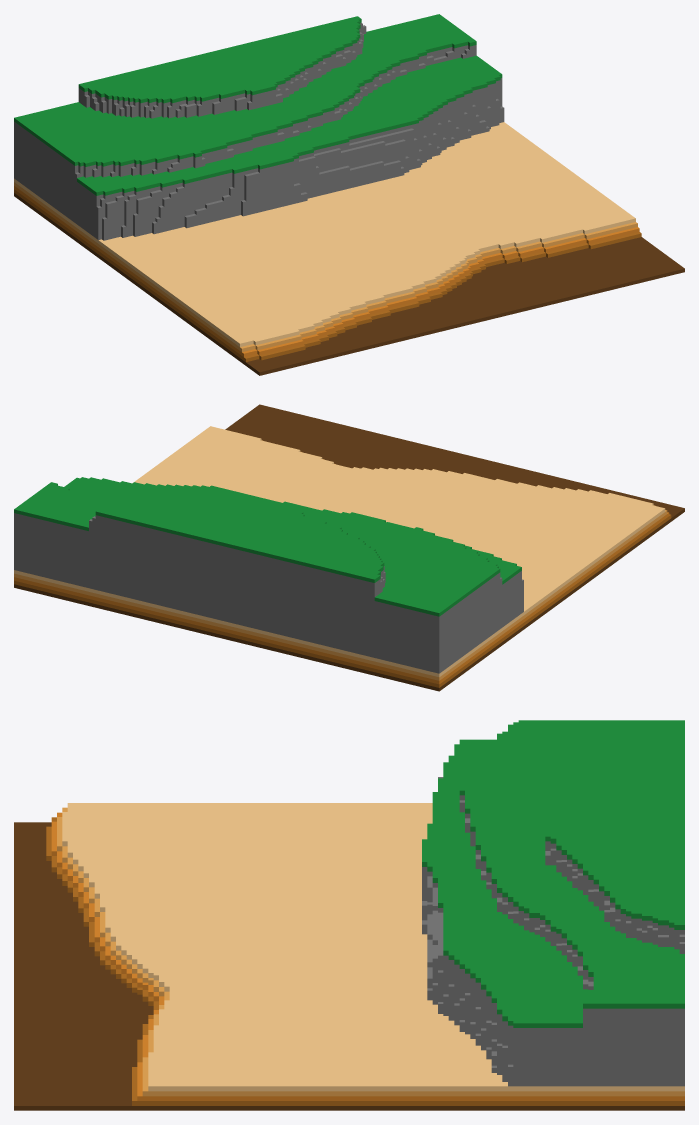
The model's file is Terrain 8.obj.
The picture shows the model from 3 angles, top to bottom: view 1: azimuth 30°, elevation 25°; view 2: azimuth 150°, elevation 25°; view 3: azimuth 270°, elevation 25°; orthographic projection. The views are drawn at different scales.
Parts seen in each view (by area): view 1: Terrain 8; view 2: Terrain 8; view 3: Terrain 8.
Boxes of the visible parts, x1,y1,x2,y2 form: Terrain 8: (14,14,684,375); Terrain 8: (14,404,684,691); Terrain 8: (14,720,684,1110).
Size of the model in its own units: 125 by 27 by 125.
Materials: 1 (1 with a texture image).
